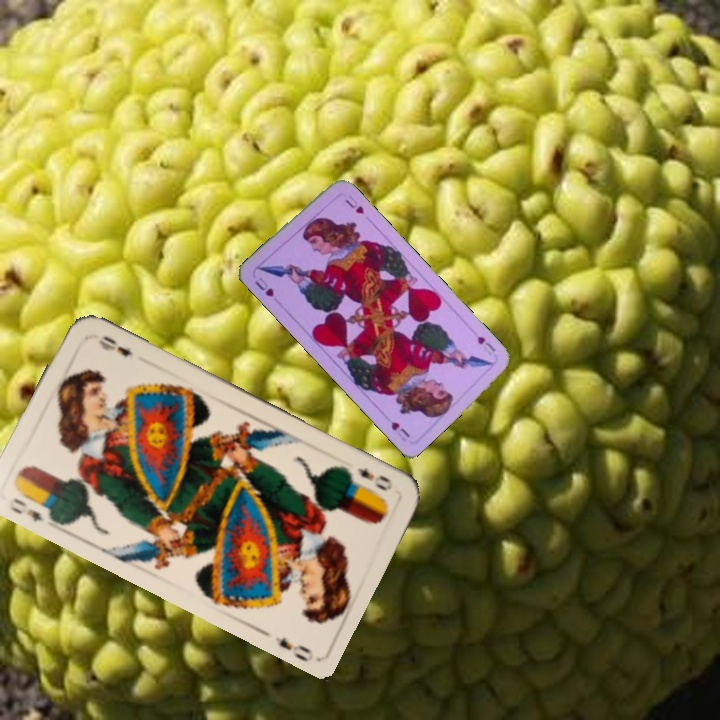EO: (5, 493, 47, 525), (353, 463, 395, 494)
HU: (250, 273, 276, 299), (473, 332, 498, 354)
